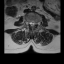CCS_normal: (31, 19, 33, 28)
LFS_normal: (35, 20, 37, 27)
LLS_normal: (33, 20, 35, 27)
RFS_normal: (27, 19, 29, 26)
RLS_normal: (29, 19, 31, 27)
